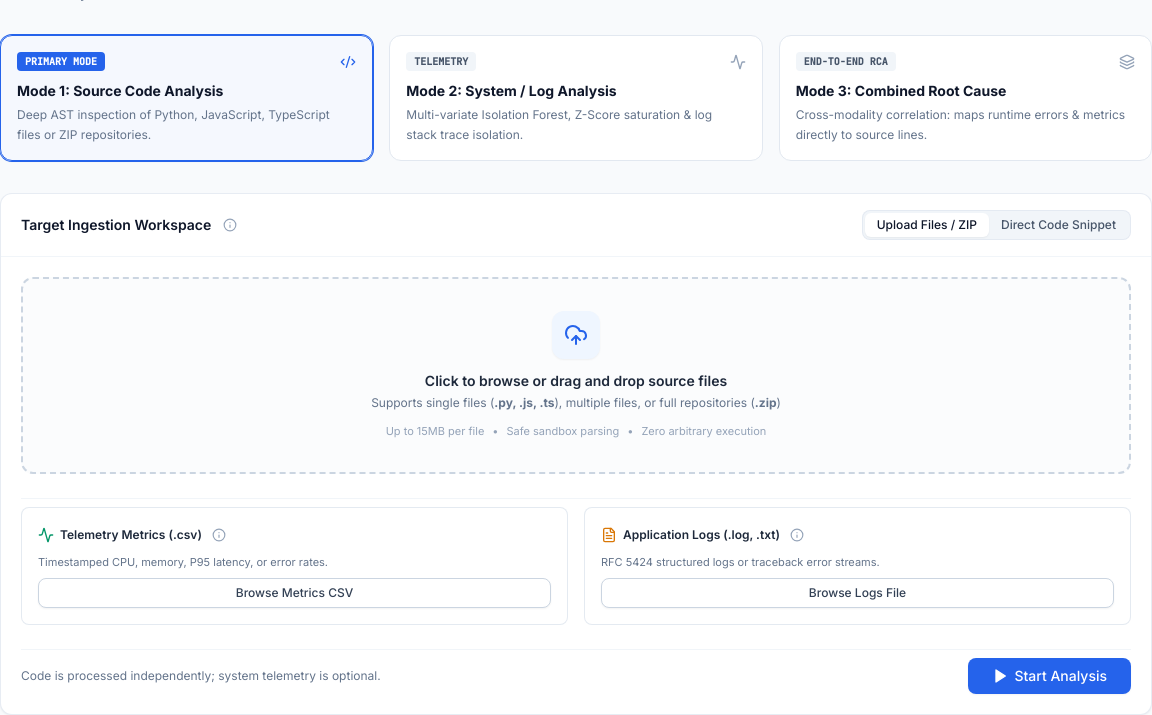
it: Frontend UI & Integration Suite (Tests A–F) › TEST A: NewAnalysisWorkspace validates empty upload and empty pasted source code
(page scrolled)
Step 1. Click the button "Start Analysis" → [1050, 676], box [968,658,1131,694]
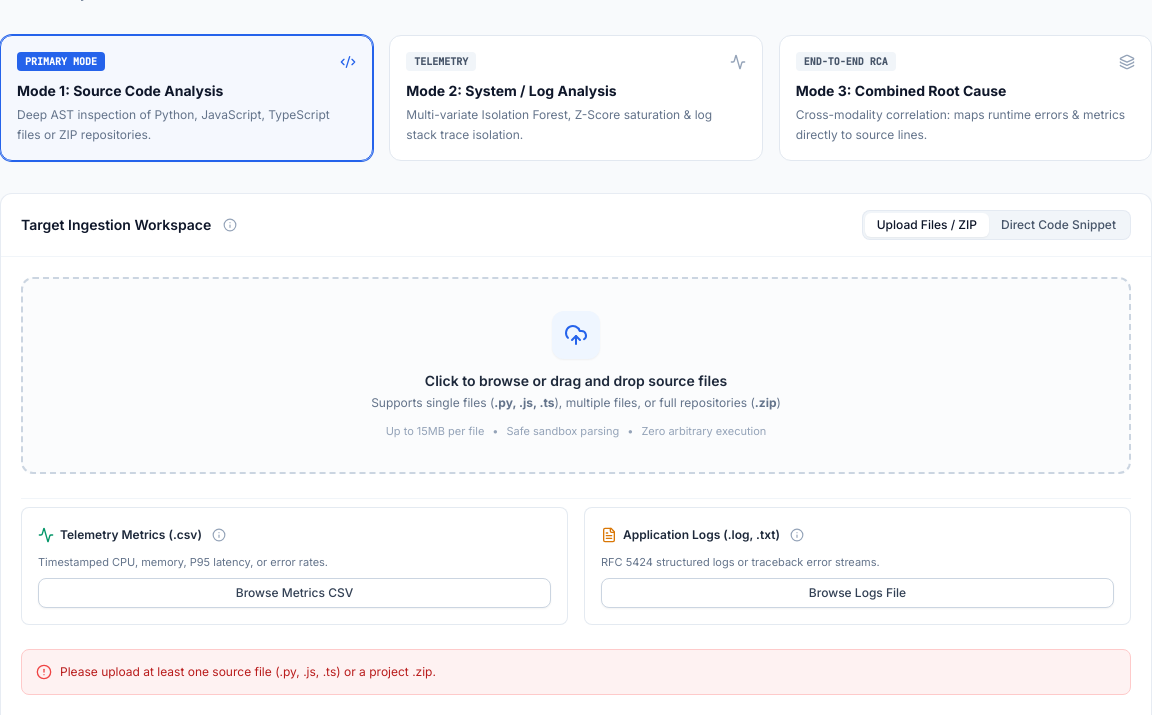
Now the text "Please upload at least one source file" is shown, box [60,664,436,679]
Step 2. Click the button "Direct Code Snippet" → [1058, 225], box [989,213,1128,237]
(page scrolled)
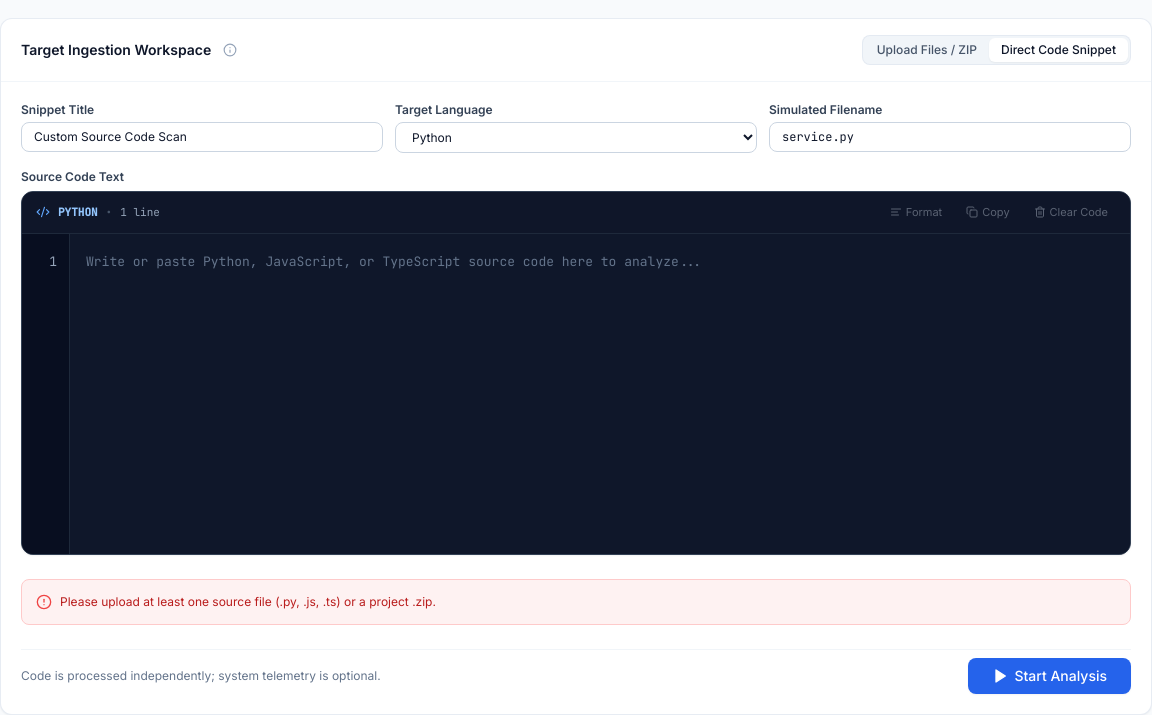
Step 3. Click the button "Start Analysis" → [1050, 676], box [968,658,1131,694]
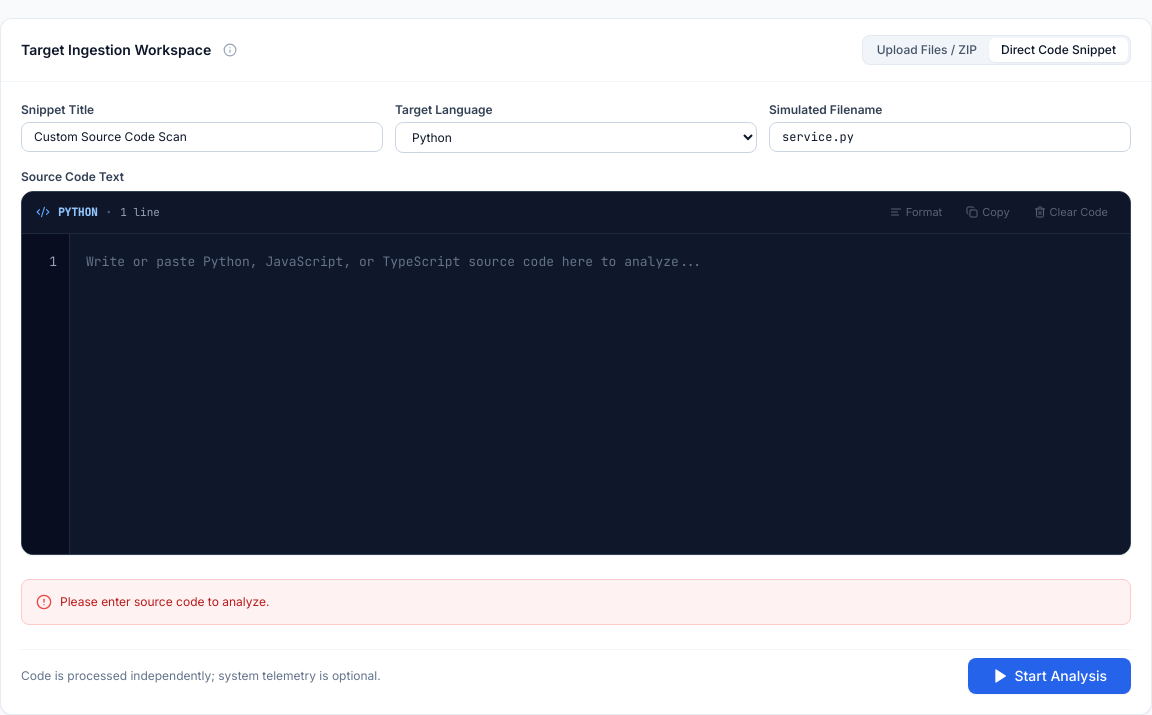
Now the text "Please enter source code to analyze." is shown, box [60,594,269,610]
